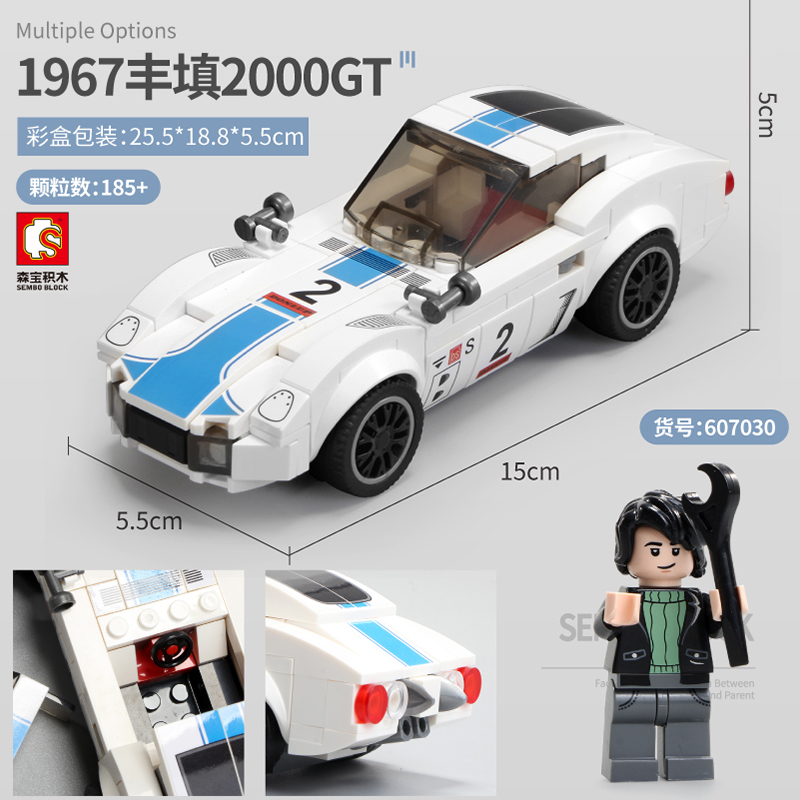Car: (86, 78, 743, 504)
